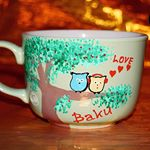cups: (1, 29, 149, 130)
